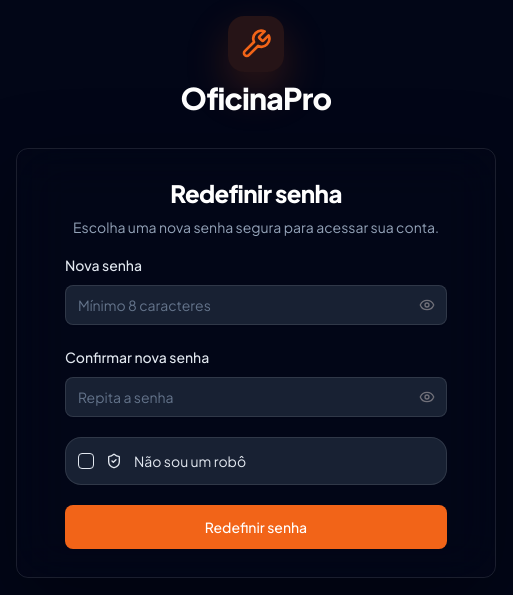
ResetPasswordPage › trata token invalido retornado pelo backend
Type "Senha123" into the password field labelled "Nova senha" at point(256, 305), box top-left (65, 285), bottom-right (447, 325)
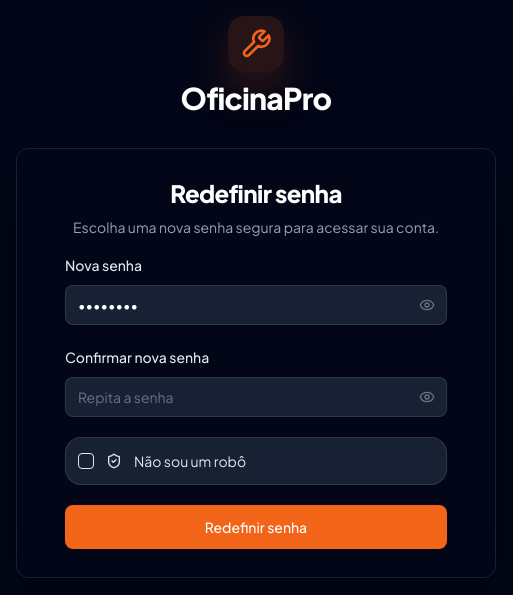
Type "Senha123" into the password field labelled "Confirmar nova senha" at point(256, 397), box top-left (65, 377), bottom-right (447, 417)
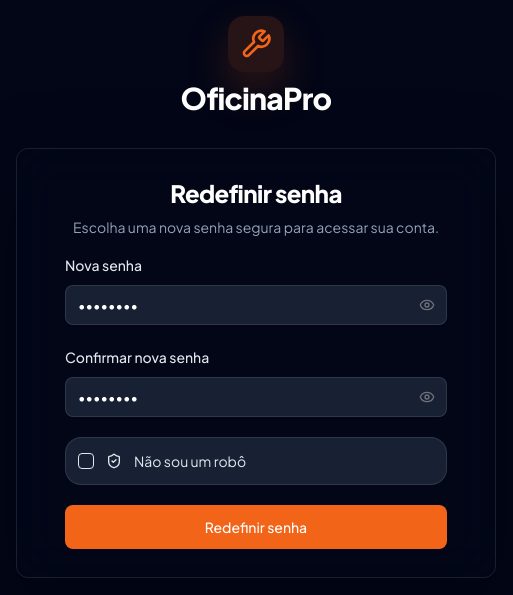
Click the checkbox labelled "Não sou um robô" at point(190, 461), box top-left (65, 437), bottom-right (447, 485)
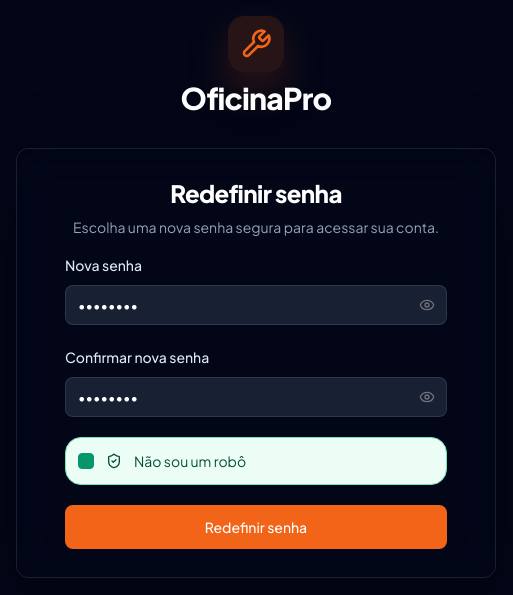
Click the button "Redefinir senha" at point(256, 527), box top-left (65, 505), bottom-right (447, 549)
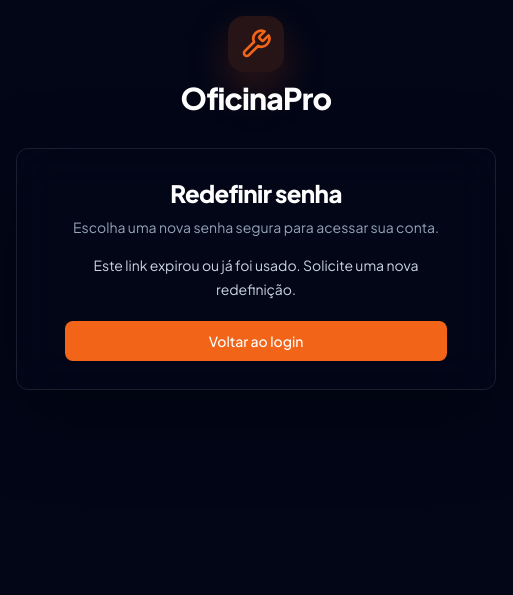
Expected: the text "Este link expirou ou já foi usado" is shown, top-left (94, 256), bottom-right (418, 298)
